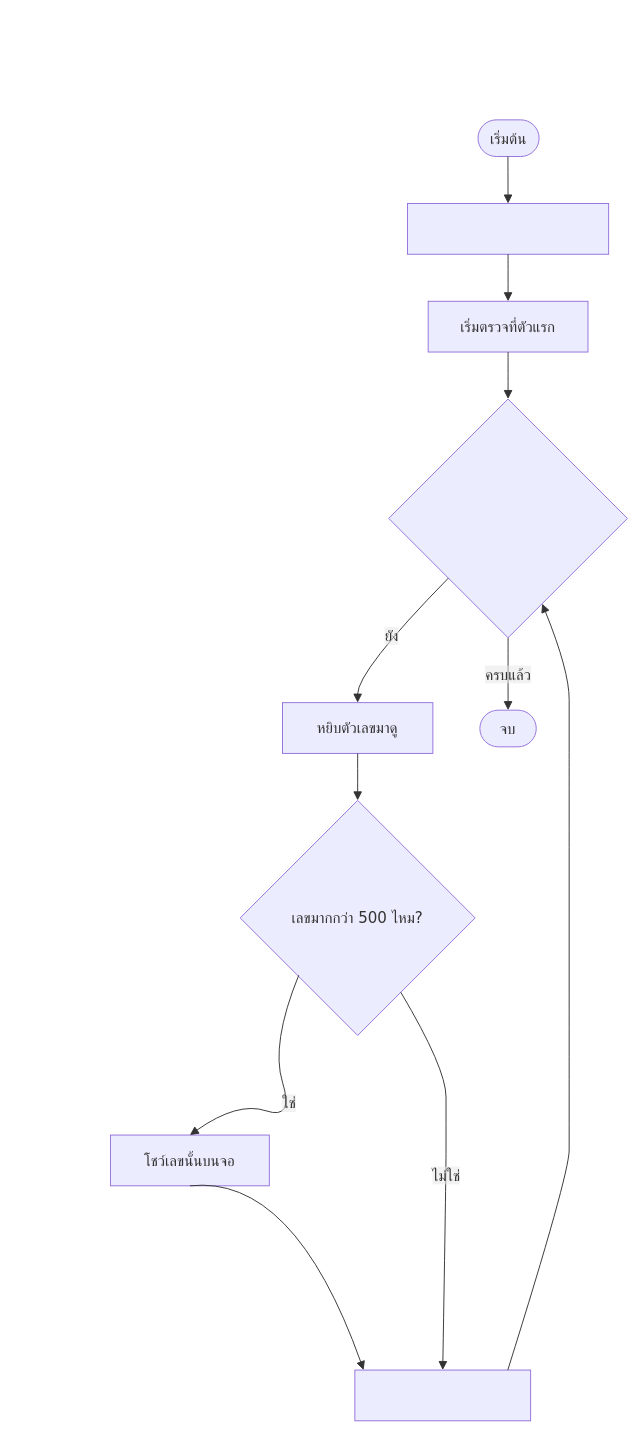
The diagram is 644 pixels wide and 1437 high, and some of its shapes have lost their labels. Here are the shapes that lost their labels. From the top down, the box of each, then its label:
(407, 203, 609, 254): กำหนดชุดตัวเลข 10 ตัว
(388, 398, 627, 638): ตรวจครบทุกตัวหรือยัง?
(354, 1369, 531, 1421): เปลี่ยนไปดูตัวถัดไป
